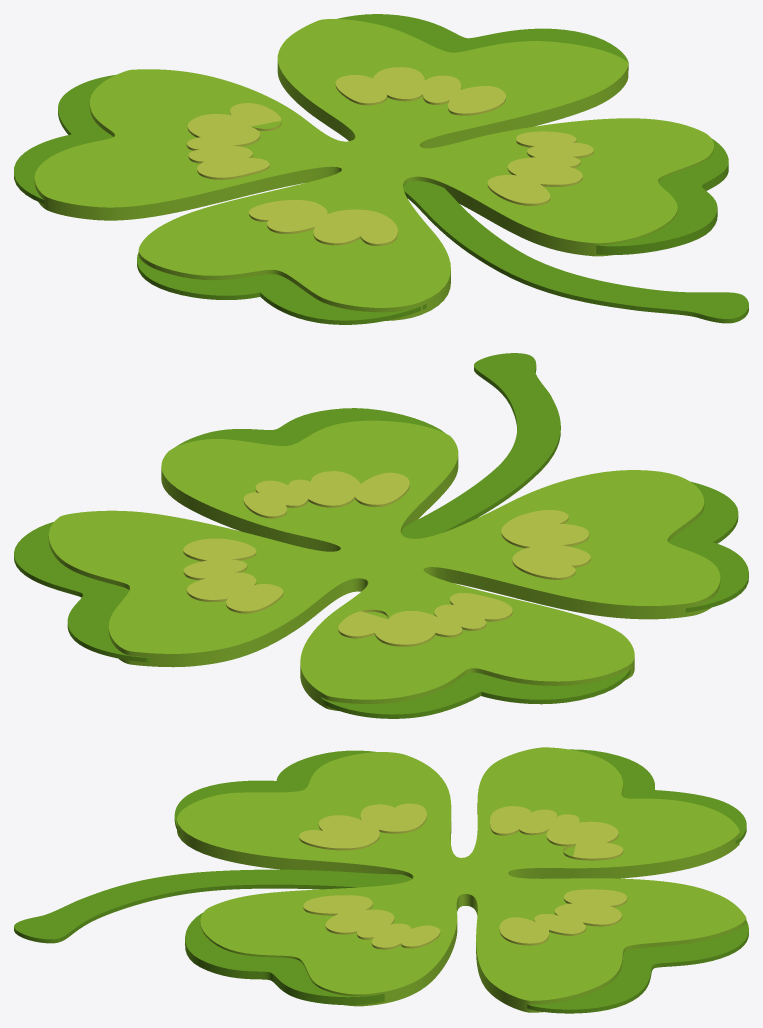
Rendered from emoji_u1f340.glb.
The picture shows the model from 3 angles, top to bottom: view 1: azimuth 30°, elevation 25°; view 2: azimuth 150°, elevation 25°; view 3: azimuth 270°, elevation 25°; orthographic projection. The views are drawn at different scales.
Parts seen in each view (by area): view 1: emoji_u1f340; view 2: emoji_u1f340; view 3: emoji_u1f340.
Boxes of the visible parts, left/top/right/bottom form: emoji_u1f340: left=14, top=14, right=748, bottom=324; emoji_u1f340: left=14, top=353, right=748, bottom=718; emoji_u1f340: left=14, top=747, right=748, bottom=1013.
Size of the model in its own units: 0.0283 by 0.0008 by 0.0337.
